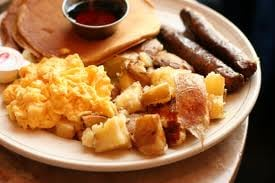sushi: (61, 0, 130, 39)
